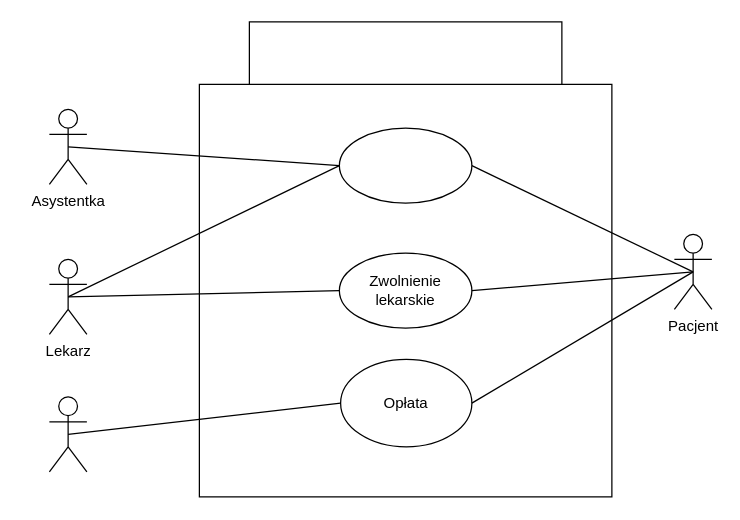
The diagram is 740 pixels wide and 520 high, and some of its shapes have lost their labels. Here are the shapes that lost their labels. From the top down, the box of each, then its label:
(248, 21, 562, 84): 5.2.2.2 Wizyta w klinice
(338, 127, 472, 203): Zabieg
(48, 396, 87, 472): Recepjonistka
